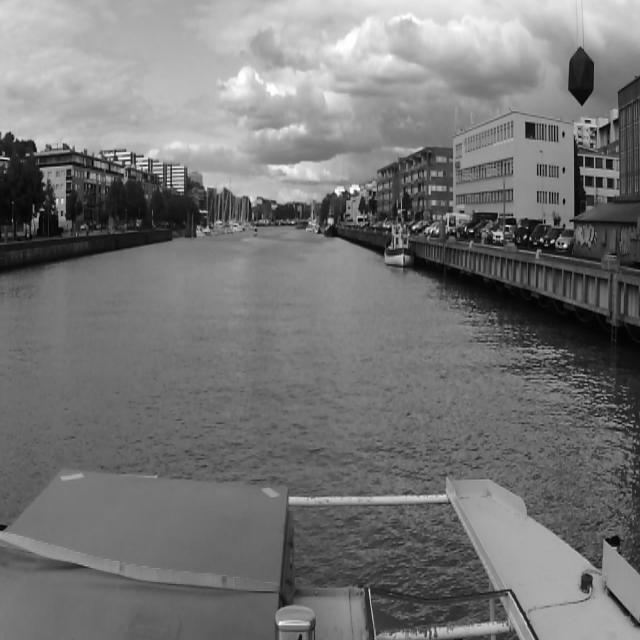ship: (384, 197, 412, 270), (201, 186, 219, 238), (304, 175, 316, 235), (324, 205, 336, 238), (194, 225, 206, 238), (294, 220, 308, 230), (252, 230, 258, 238)
